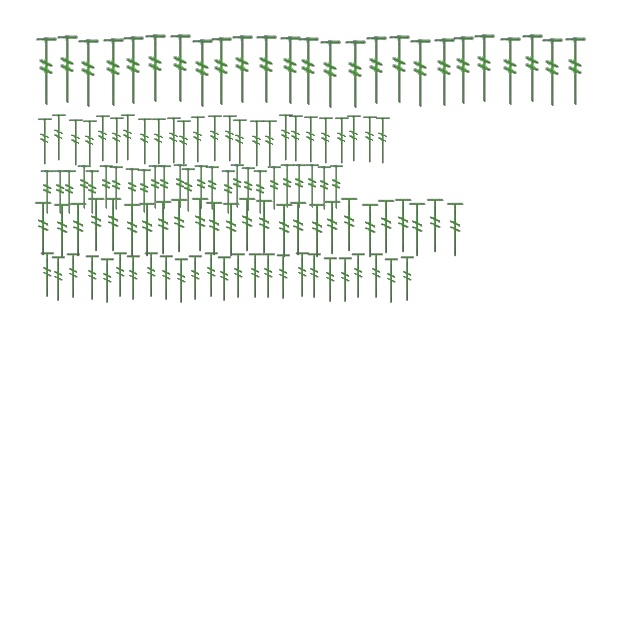fan: (34, 36, 58, 108), (55, 34, 79, 106), (76, 38, 100, 110), (190, 38, 214, 110), (209, 36, 233, 108), (230, 34, 254, 106), (254, 34, 278, 106), (296, 36, 320, 108), (387, 34, 411, 106), (408, 38, 432, 110), (498, 36, 522, 108), (563, 36, 587, 108), (101, 38, 125, 108), (121, 36, 145, 106), (143, 34, 167, 104), (168, 34, 192, 104), (278, 36, 302, 106), (318, 40, 342, 110), (343, 40, 367, 110), (364, 36, 388, 106), (432, 38, 456, 108), (451, 36, 475, 106), (472, 34, 496, 104), (520, 34, 544, 104), (540, 38, 564, 108), (52, 202, 74, 260), (86, 196, 108, 254), (122, 202, 144, 260), (190, 196, 212, 254), (204, 200, 226, 258), (254, 198, 276, 256), (274, 202, 296, 260), (288, 200, 310, 258), (360, 202, 382, 260), (376, 198, 398, 256), (68, 202, 90, 258), (322, 200, 344, 256), (34, 200, 54, 258), (104, 196, 124, 254), (238, 196, 258, 254), (308, 202, 328, 260), (340, 196, 360, 254), (138, 202, 158, 258), (154, 200, 174, 256), (170, 198, 190, 254), (222, 202, 242, 258), (394, 198, 414, 254), (408, 202, 428, 258), (426, 198, 446, 254), (446, 202, 466, 258), (36, 116, 54, 168), (50, 112, 68, 164), (81, 118, 99, 170), (119, 112, 137, 164), (136, 116, 154, 168), (150, 116, 168, 168), (175, 118, 193, 170), (189, 114, 207, 166), (248, 118, 266, 170), (261, 118, 279, 170), (277, 112, 295, 164), (302, 114, 320, 166), (361, 114, 379, 166), (67, 118, 85, 168), (94, 114, 112, 164), (108, 116, 126, 166), (165, 116, 183, 166), (206, 114, 224, 164), (221, 114, 239, 164), (231, 118, 249, 168), (287, 114, 305, 164), (317, 116, 335, 166), (333, 116, 351, 166), (345, 114, 363, 164), (374, 116, 392, 166), (84, 254, 102, 302), (158, 254, 176, 302), (230, 252, 248, 300), (260, 252, 278, 300), (306, 252, 324, 300), (322, 256, 340, 304), (350, 252, 368, 300), (368, 252, 386, 300), (50, 256, 68, 302), (112, 252, 130, 298), (216, 256, 234, 302), (294, 252, 312, 298), (66, 252, 82, 300), (126, 254, 142, 302), (188, 254, 204, 302), (248, 252, 264, 300), (338, 256, 354, 304), (39, 169, 55, 215), (52, 169, 68, 215), (61, 169, 77, 215), (76, 164, 92, 210), (84, 169, 100, 215), (98, 164, 114, 210), (108, 165, 124, 211), (124, 167, 140, 213), (136, 168, 152, 214), (147, 164, 163, 210), (156, 164, 172, 210), (172, 163, 188, 209), (180, 167, 196, 213), (193, 164, 209, 210), (204, 165, 220, 211), (220, 169, 236, 215), (229, 163, 245, 209), (240, 166, 256, 212), (252, 169, 268, 215), (266, 165, 282, 211), (279, 163, 295, 209), (291, 163, 307, 209), (304, 163, 320, 209), (316, 165, 332, 211), (328, 164, 344, 210), (40, 252, 56, 298), (100, 258, 116, 304), (144, 252, 160, 298), (174, 258, 190, 304), (204, 252, 220, 298), (276, 254, 292, 300), (384, 258, 400, 304), (400, 256, 416, 302)
